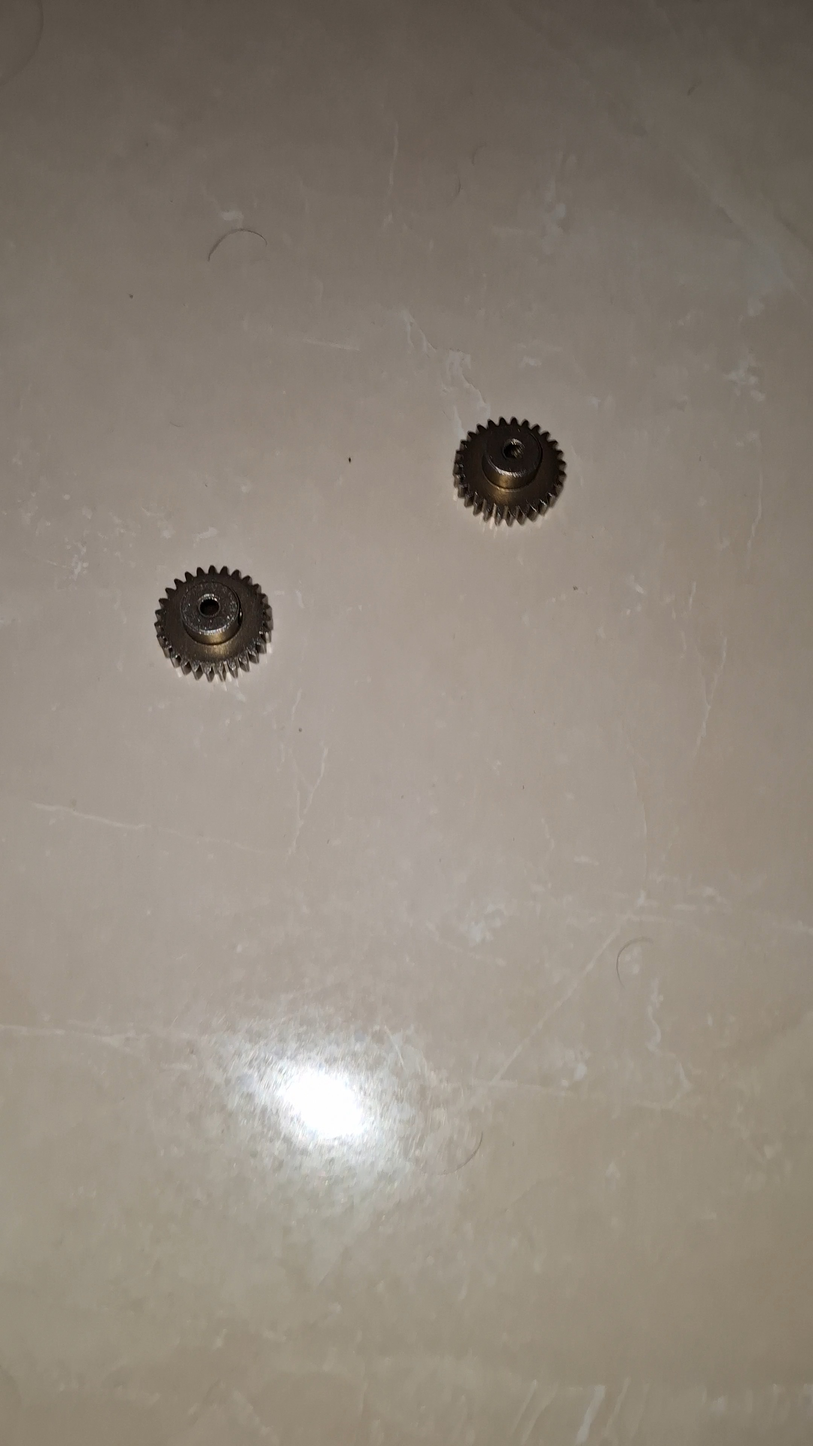spur gear: (155, 566, 272, 680), (454, 418, 565, 523)
